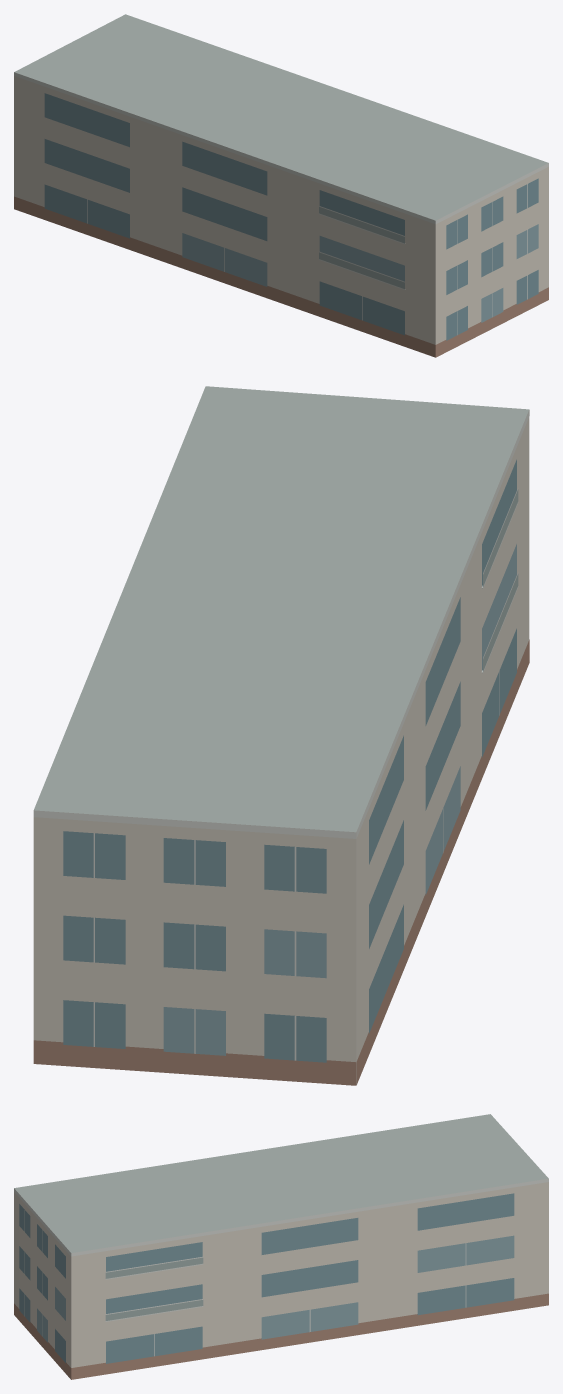
The model's file is survey-upis-32523055.glb.
3 views of the same model, one above another, from view 1: azimuth 30°, elevation 25°; view 2: azimuth 150°, elevation 25°; view 3: azimuth 270°, elevation 25° (orthographic). The views are drawn at different scales.
Parts seen in each view (by area): view 1: survey-upis-32523055.tmp; view 2: survey-upis-32523055.tmp; view 3: survey-upis-32523055.tmp.
Part boxes in pixels (bbox=[...]): survey-upis-32523055.tmp: bbox=[14, 14, 548, 357]; survey-upis-32523055.tmp: bbox=[33, 386, 529, 1085]; survey-upis-32523055.tmp: bbox=[14, 1114, 548, 1379].
Bounding box in the file's own units: 21.55 × 9.15 × 35.01.
